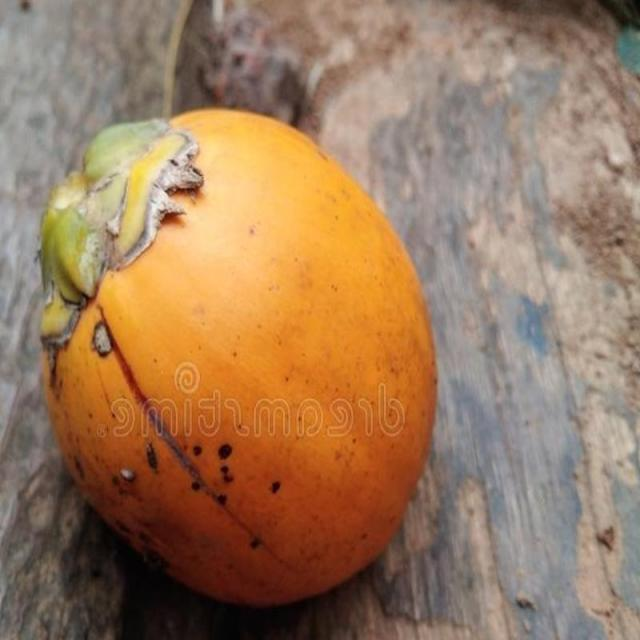good: (36, 108, 441, 612)
